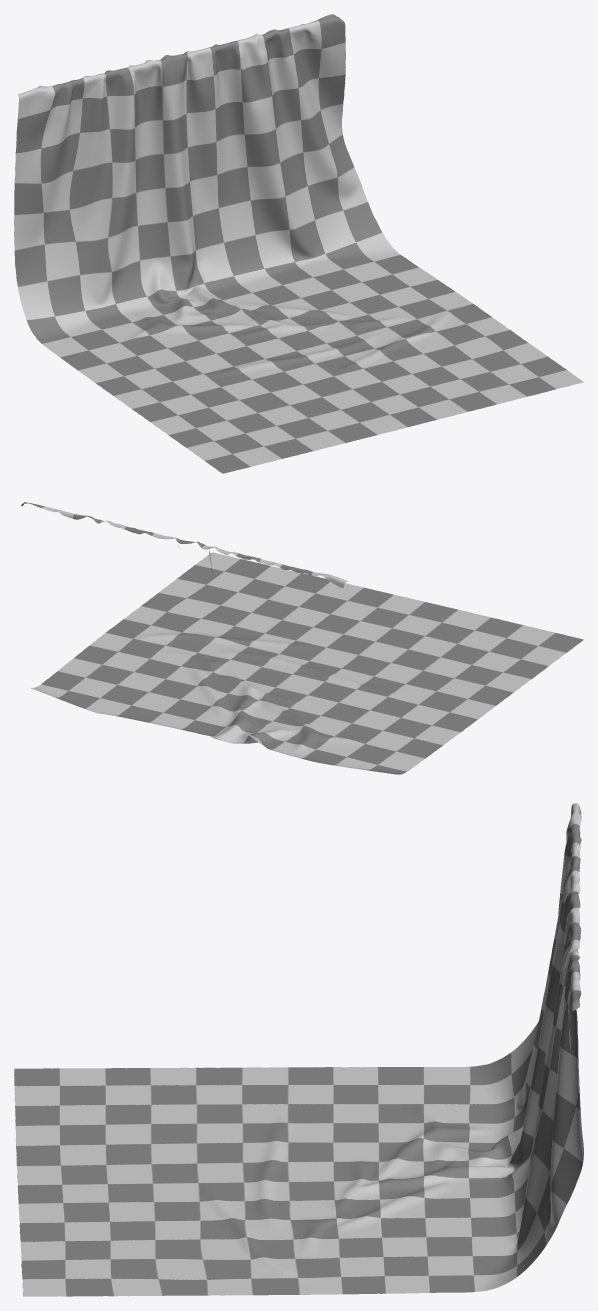
Rendered from backdrop.glb.
The picture shows the model from 3 angles, top to bottom: view 1: azimuth 30°, elevation 25°; view 2: azimuth 150°, elevation 25°; view 3: azimuth 270°, elevation 25°; orthographic projection. The views are drawn at different scales.
Visible parts, largest first — view 1: Cloth Backdrop; view 2: Cloth Backdrop; view 3: Cloth Backdrop.
Boxes of the visible parts, x1,y1,x2,y2 form: Cloth Backdrop: (14, 14, 583, 473); Cloth Backdrop: (21, 502, 583, 774); Cloth Backdrop: (14, 803, 583, 1296).
Bounding box in the file's own units: 6.31 × 3.57 × 6.61.
Materials: 1 (1 with a texture image).
